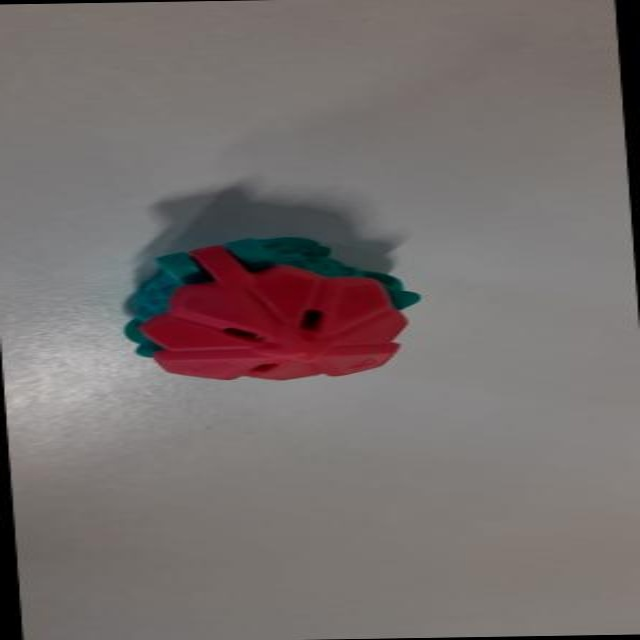House: (102, 226, 430, 396)
